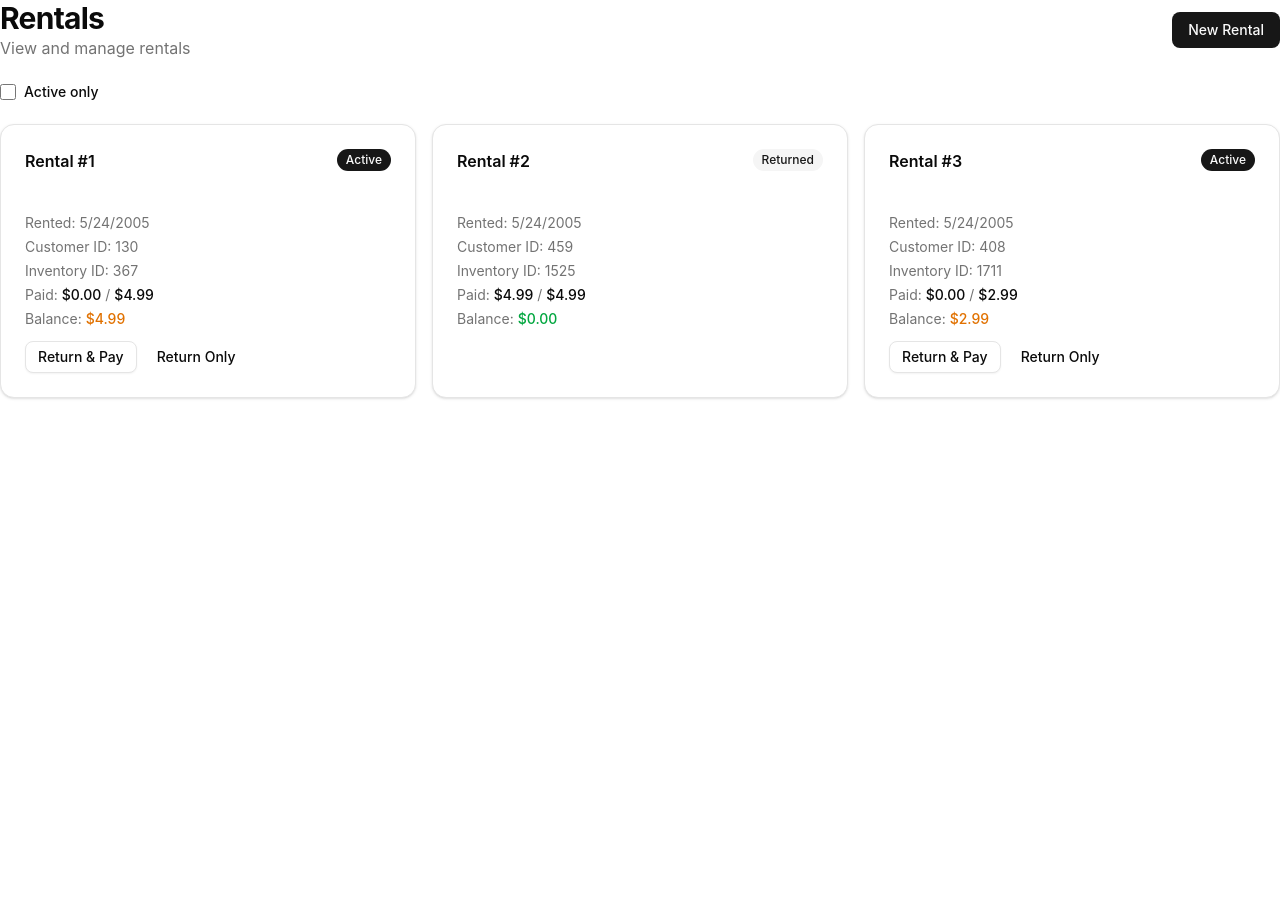
RentalsList › opens Return & Pay modal when button clicked
This screenshot has width=1280, height=900.
Click the button "Return & Pay" below "367". click: point(81, 357)
box: top-left (25, 341), bottom-right (137, 373)
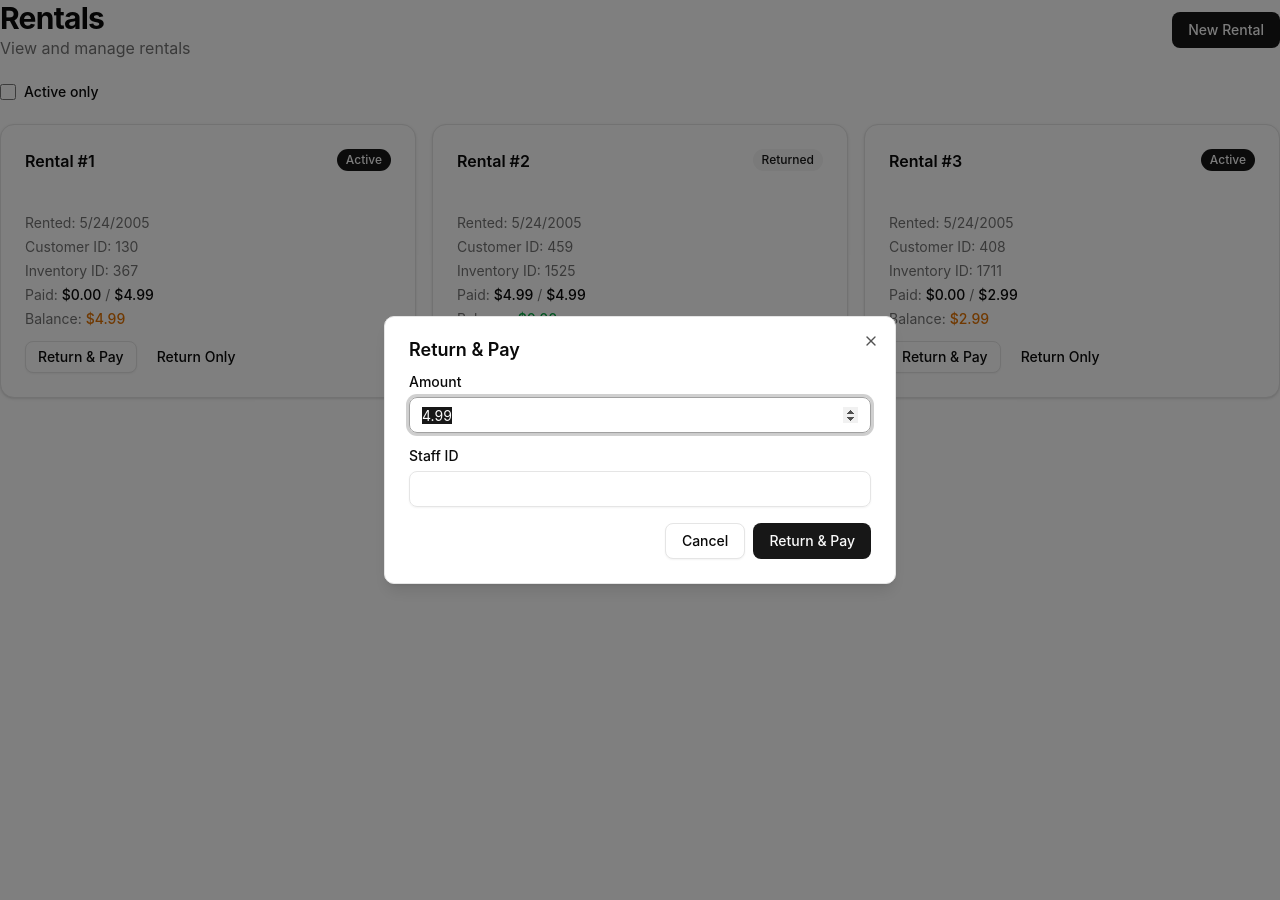
Check: the dialog is shown, box top-left (384, 316), bottom-right (896, 584)
Check: the number field labelled "Amount" is shown, box top-left (409, 397), bottom-right (871, 433)
Check: the number field labelled "Staff ID" is shown, box top-left (409, 471), bottom-right (871, 507)
